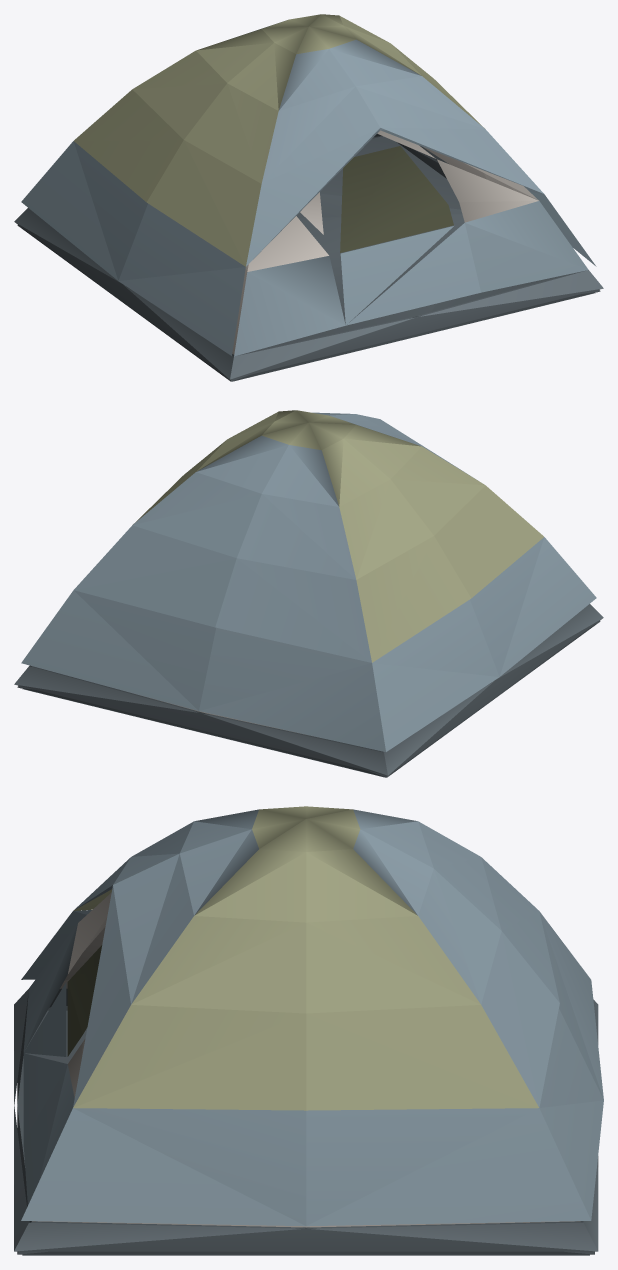
The model's file is dome.lod.glb.
3 renders of one model, top to bottom at view 1: azimuth 30°, elevation 25°; view 2: azimuth 150°, elevation 25°; view 3: azimuth 270°, elevation 25°, orthographic. The views are drawn at different scales.
Visible parts, largest first — view 1: dome; view 2: dome; view 3: dome.
Boxes of the visible parts, x1,y1,x2,y2 form: dome: [14, 14, 603, 381]; dome: [14, 410, 603, 777]; dome: [14, 806, 603, 1255].
Bounding box in the file's own units: 2.78 × 1.63 × 2.76.
